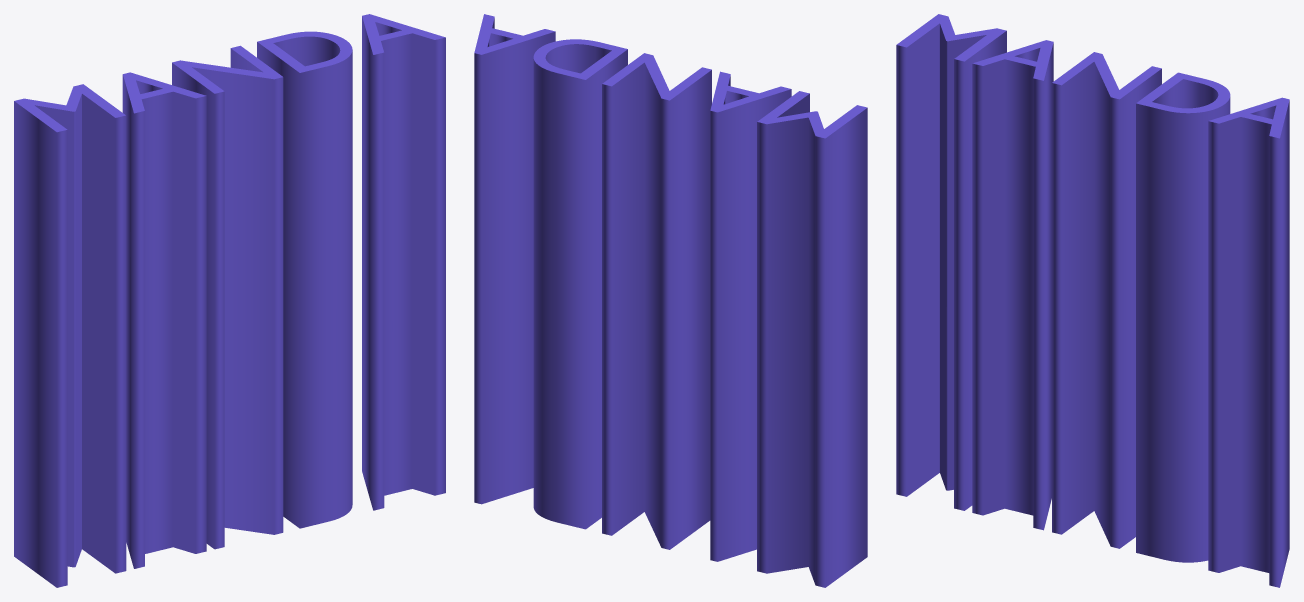
File: manda.glb
3 renders of one model, left to right at view 1: azimuth 30°, elevation 25°; view 2: azimuth 150°, elevation 25°; view 3: azimuth 330°, elevation 25°, orthographic.
Parts seen in each view (by area): view 1: Texte; view 2: Texte; view 3: Texte.
Part boxes in pixels (x1=…): Texte: x1=14, y1=14, x2=445, y2=587; Texte: x1=474, y1=14, x2=867, y2=587; Texte: x1=896, y1=14, x2=1289, y2=587.
Size of the model in its own units: 10.39 by 11.64 by 2.
